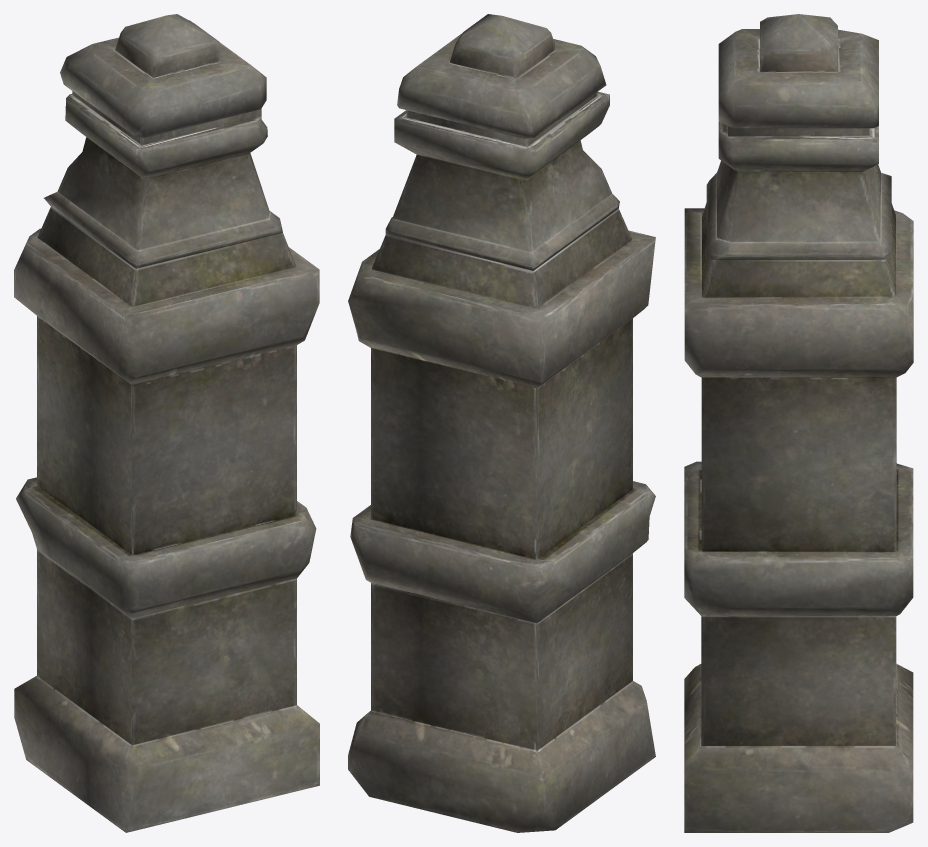
File: Railing_pillar01.fbx
3 views of the same model, side by side, from view 1: azimuth 30°, elevation 25°; view 2: azimuth 150°, elevation 25°; view 3: azimuth 270°, elevation 25° (orthographic). The views are drawn at different scales.
Visible parts, largest first — view 1: Railing_pillar01; view 2: Railing_pillar01; view 3: Railing_pillar01.
Part boxes in pixels (x1=…): Railing_pillar01: x1=14, y1=14, x2=319, y2=832; Railing_pillar01: x1=348, y1=14, x2=655, y2=832; Railing_pillar01: x1=684, y1=14, x2=913, y2=832.
Bounding box in the file's own units: 44.83 × 166 × 44.86.
